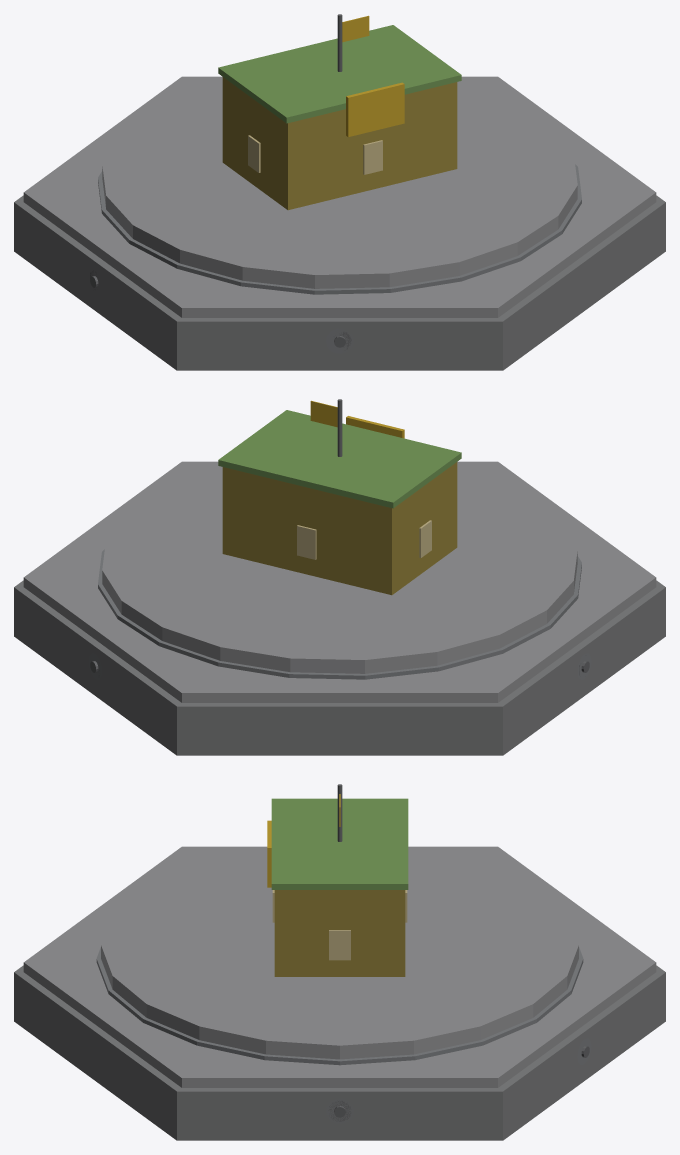
Rendered from exchange_s2_ruin.glb.
3 renders of one model, top to bottom at view 1: azimuth 30°, elevation 25°; view 2: azimuth 150°, elevation 25°; view 3: azimuth 270°, elevation 25°, orthographic.
Visible parts, largest first — view 1: EX_Base; view 2: EX_Base; view 3: EX_Base.
Part boxes in pixels (x1,y1,x2,y2): EX_Base: (14, 14, 665, 370); EX_Base: (14, 399, 665, 755); EX_Base: (14, 784, 665, 1140).
Size of the model in its own units: 5.25 by 2.4 by 6.
